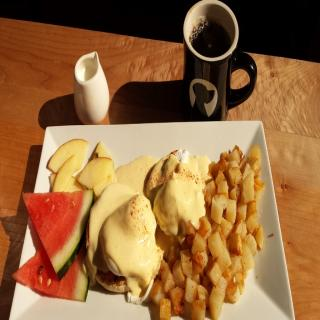Watermelon: (22, 189, 95, 283), (12, 248, 90, 300)
